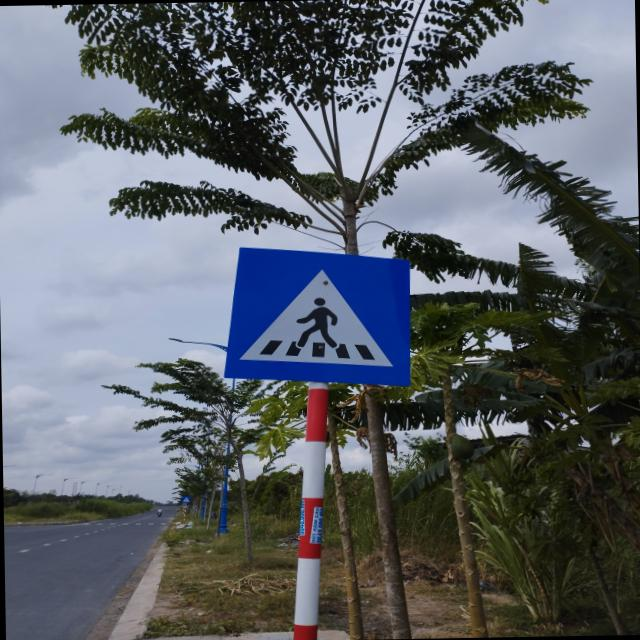Giao_Nhau_Duong_Uu_Tien: (221, 244, 413, 388)
